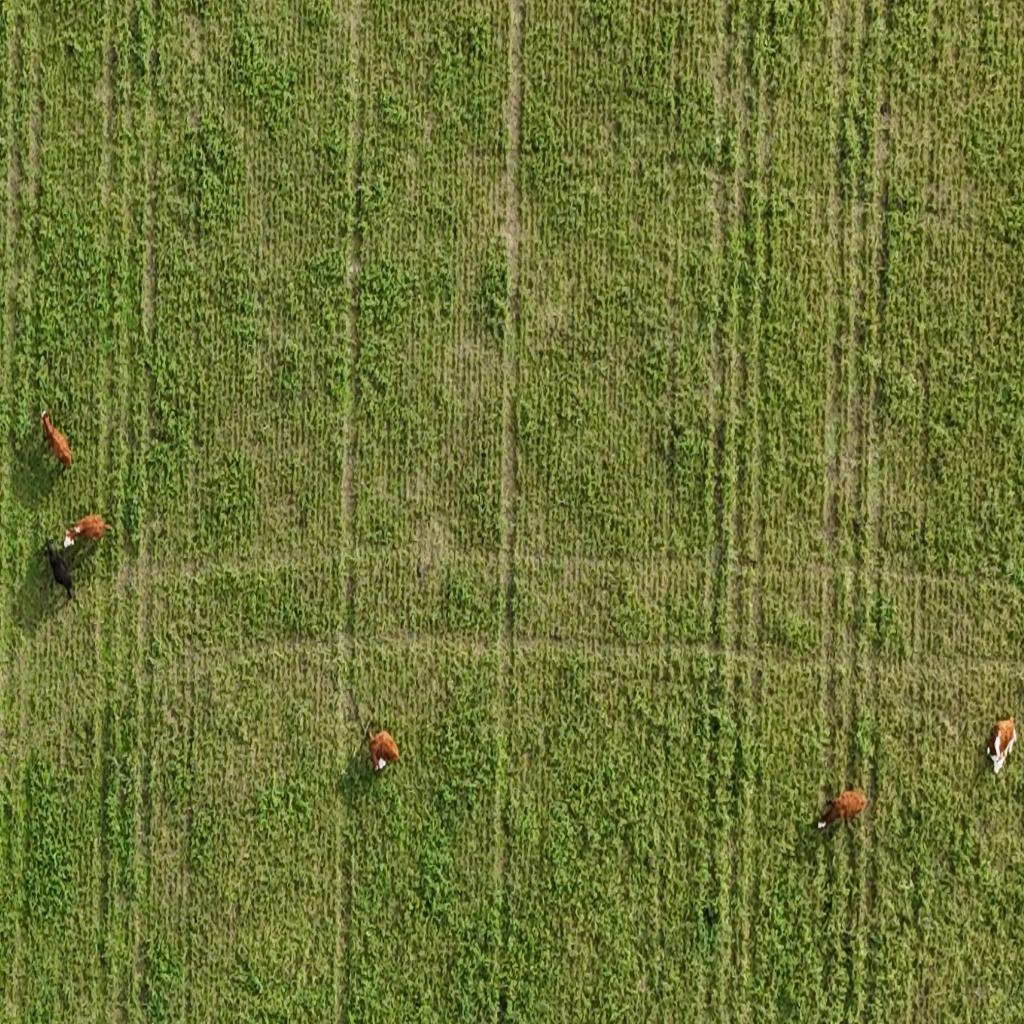cow: (815, 784, 870, 839), (41, 534, 79, 600), (39, 408, 75, 476), (362, 717, 400, 777), (62, 511, 112, 551), (982, 714, 1014, 774)
